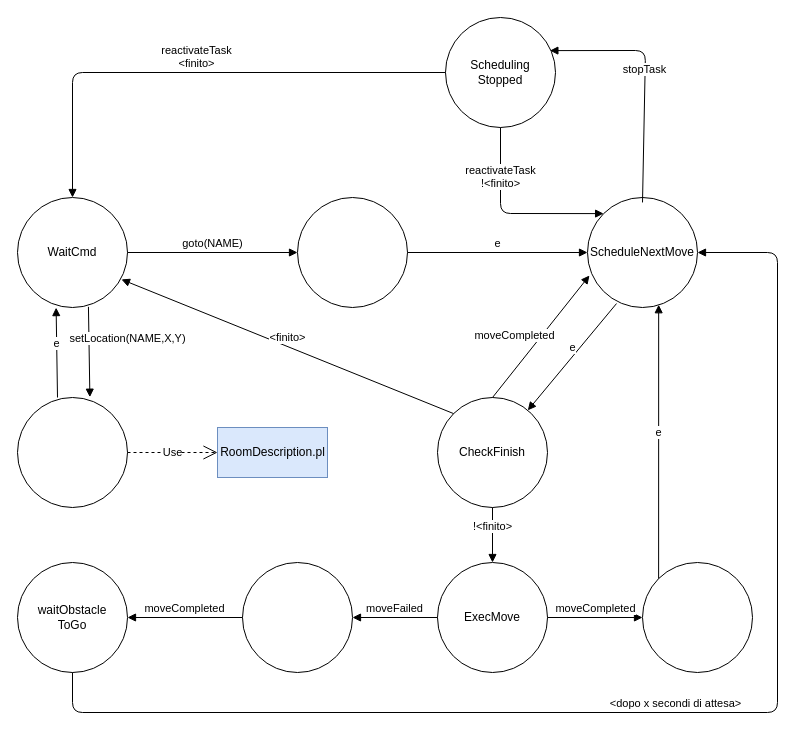
Some shapes in this 803 by 738 pixel diagram are drawn without their labels. Each missing label, with the centre of its shape:
"Backward" belongs at (297,617).
"CalculatePath" belongs at (352,252).
"confirmStep" belongs at (697,617).
"UpdateRoom" belongs at (72,452).
